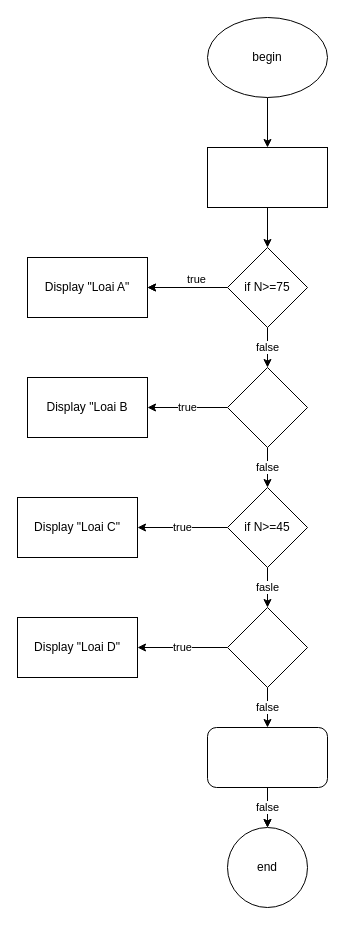
This 345x925 diagram has some shape labels left out. The centre of each missing label's shape, as x and y in pixels:
Display "Loai E": point 267,757
if N>=35: point 267,647
if N>=60: point 267,407
input N: point 267,177
